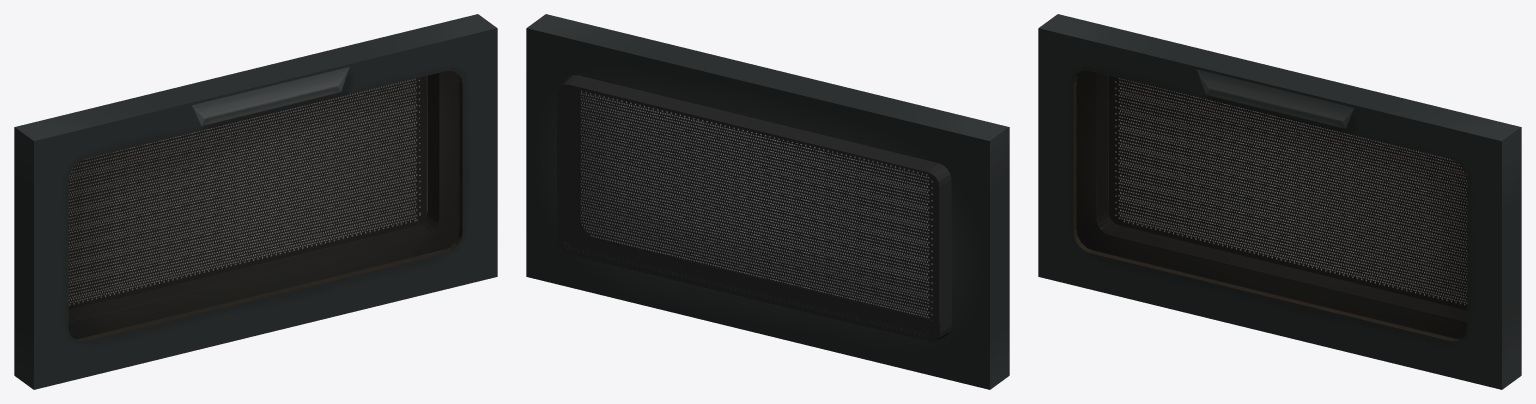
Rendered from microwave_door.gltf.
3 renders of one model, left to right at view 1: azimuth 30°, elevation 25°; view 2: azimuth 150°, elevation 25°; view 3: azimuth 330°, elevation 25°, orthographic.
Parts seen in each view (by area): view 1: microwave_door; view 2: microwave_door; view 3: microwave_door.
Boxes of the visible parts, bbox=[...] form: microwave_door: bbox=[14, 14, 497, 389]; microwave_door: bbox=[526, 14, 1009, 389]; microwave_door: bbox=[1038, 14, 1521, 389].
Bounding box in the file's own units: 1 × 0.5126 × 0.1099.
Materials: 1 (1 with a texture image).
